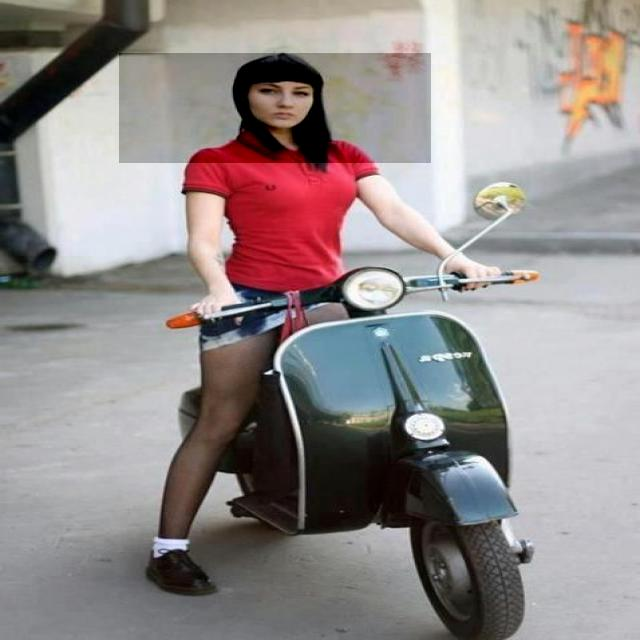No_Helmet: (119, 53, 431, 163)
